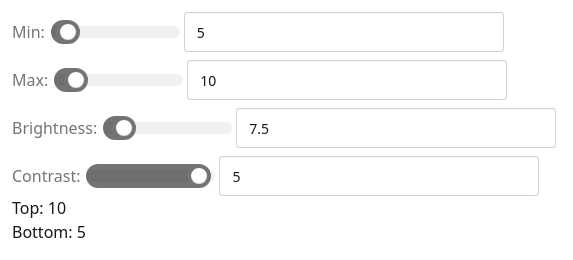
it: the RangePicker() component › sets top and bottom
Set the slider labelled "Max:" to "15". click: (78, 80)
box: [54,68,183,92]
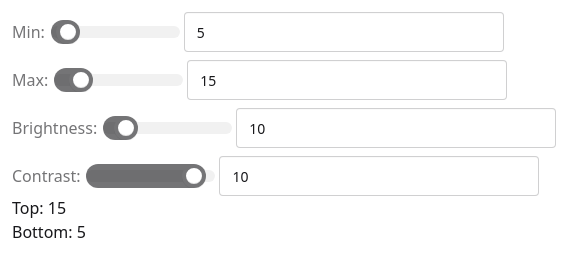
Set the slider labelled "Min:" to "2". click: (61, 32)
box: [51,20,180,44]
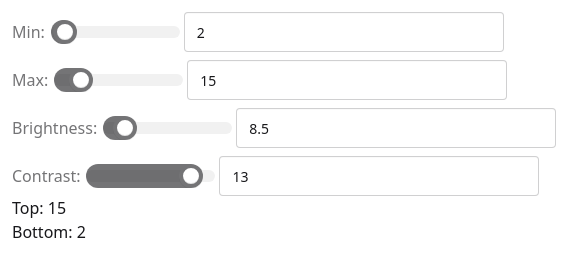
Result: the text "Top: 15" is shown at [12,197,66,219]
Result: the text "Bottom: 2" is shown at [12,221,86,243]
